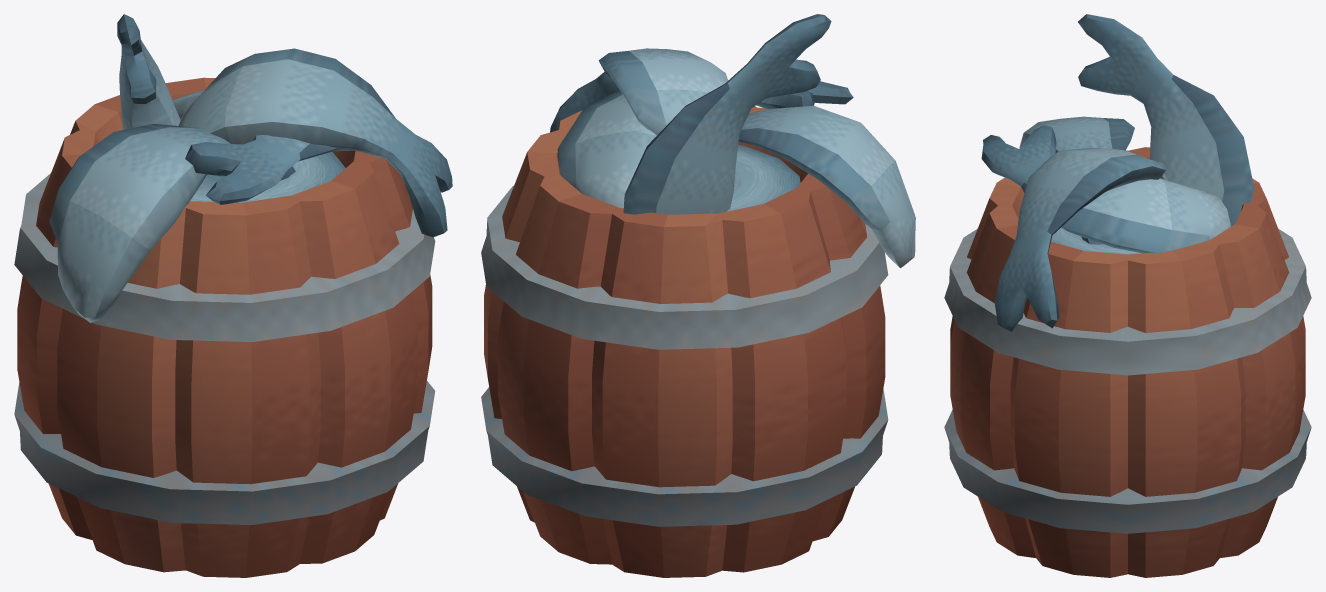
File: food-barrel-fish.glb
3 renders of one model, left to right at view 1: azimuth 30°, elevation 25°; view 2: azimuth 150°, elevation 25°; view 3: azimuth 270°, elevation 25°, orthographic. The views are drawn at different scales.
Visible parts, largest first — view 1: Food_Barrel_Fish; view 2: Food_Barrel_Fish; view 3: Food_Barrel_Fish.
Part boxes in pixels (x1,y1,x2,y2): Food_Barrel_Fish: (14, 14, 452, 577); Food_Barrel_Fish: (481, 14, 915, 577); Food_Barrel_Fish: (944, 14, 1311, 577).
Bounding box in the file's own units: 1.29 × 1.71 × 1.25.
Materials: 1 (1 with a texture image).
